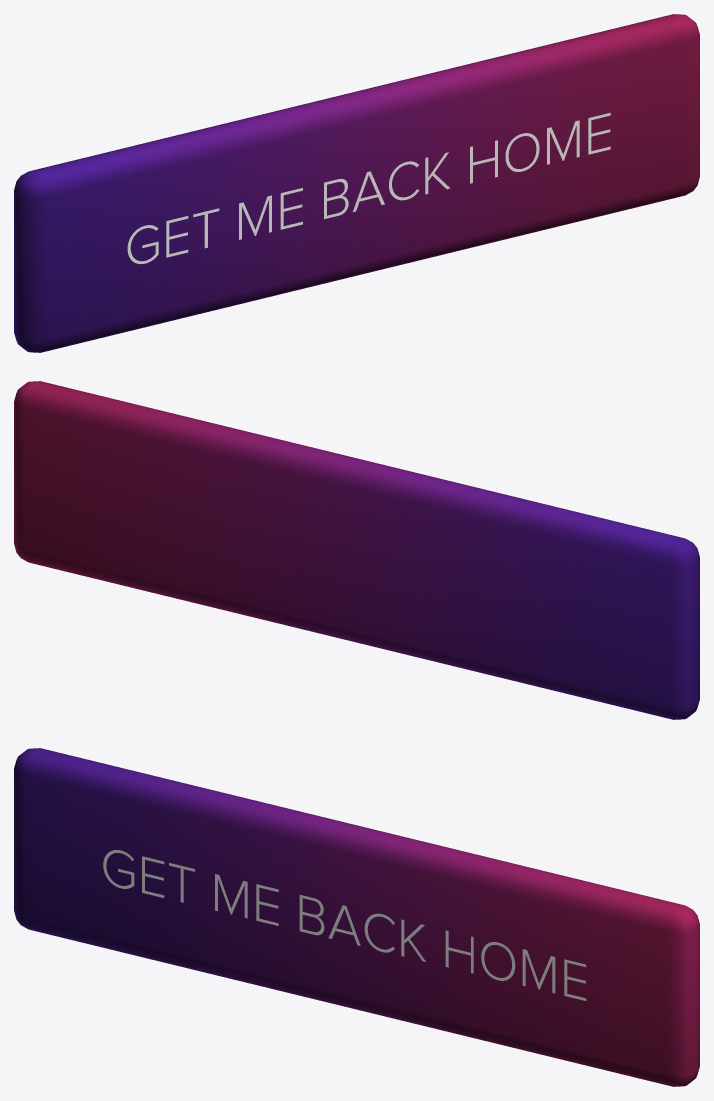
The model's file is button_home.glb.
3 views of the same model, one above another, from view 1: azimuth 30°, elevation 25°; view 2: azimuth 150°, elevation 25°; view 3: azimuth 330°, elevation 25° (orthographic).
Parts seen in each view (by area): view 1: button, button_home; view 2: button; view 3: button, button_home.
Part boxes in pixels (x1,y1,x2,y2): button: (14,14,699,352); button_home: (127,112,610,264); button: (14,381,699,719); button: (14,748,699,1086); button_home: (103,850,586,1000).
Size of the model in its own units: 0.4 by 0.1 by 0.0224.
Materials: 2 (1 with a texture image).
